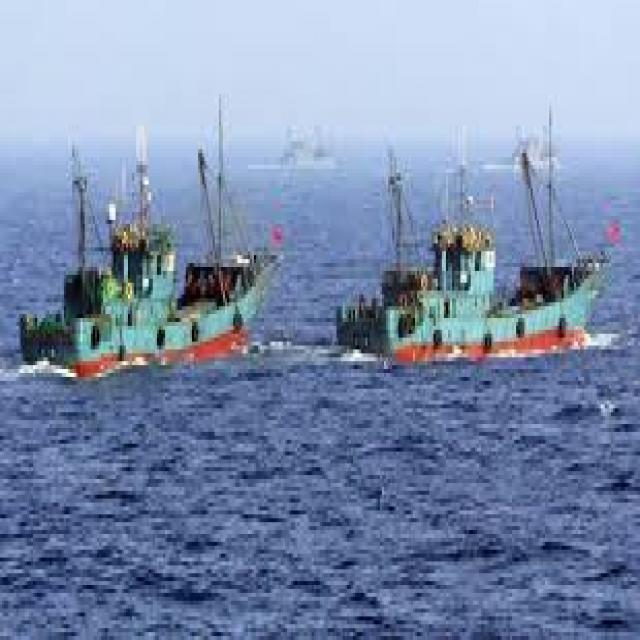Ship: (329, 123, 633, 406), (26, 107, 299, 402)
